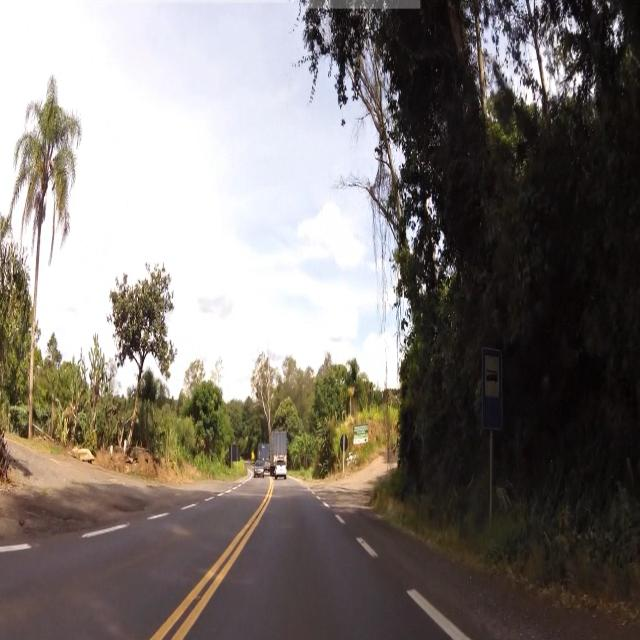S-14: (480, 350, 506, 428)
